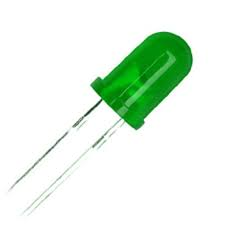jumper_wire: (50, 22, 208, 151)
